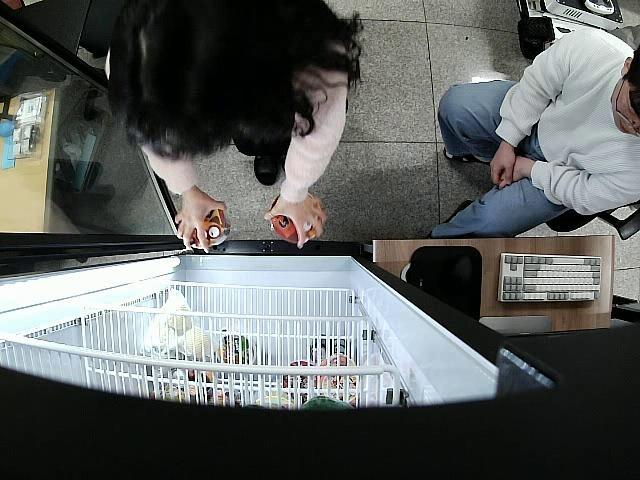05_nuguri_L: (268, 190, 325, 244), (188, 206, 232, 250)
